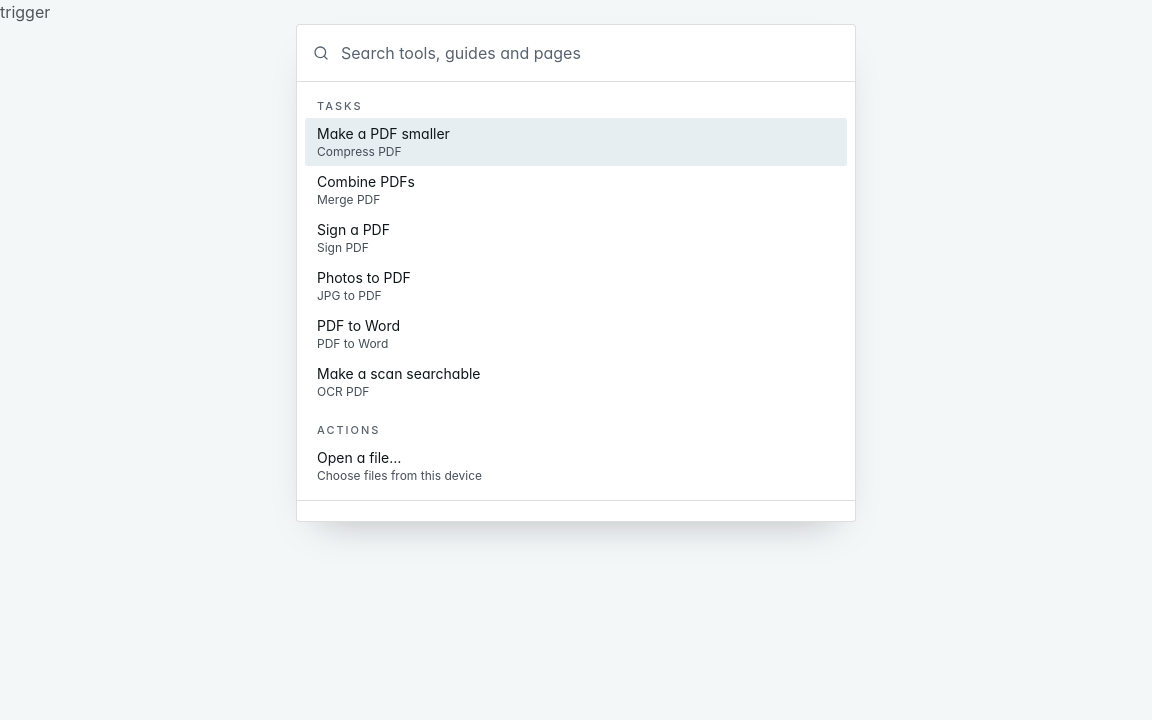
it: the combobox contract › finds guides once their meta arrives (its own chunk)
The width and height of the screenshot is (1152, 720).
Type "how to merge" into the dropdown named "Find a tool or guide".
click(590, 53); type("how to merge")  # box [341,25,839,81]
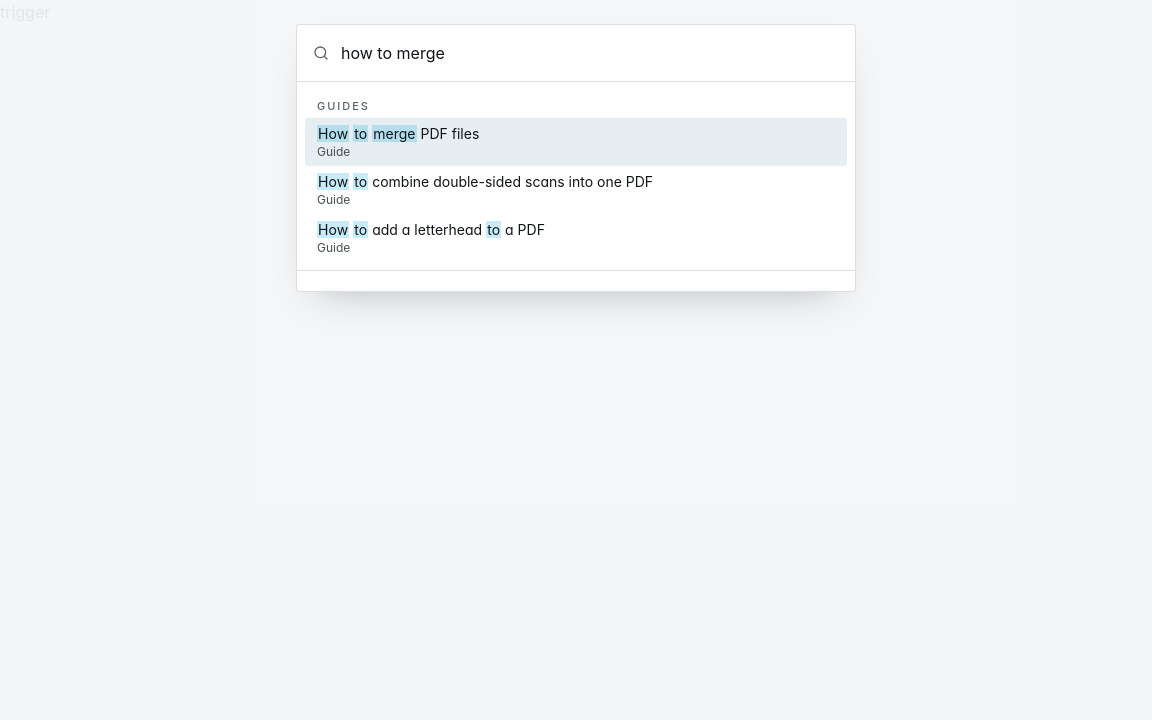
Result: the element "Guides" shows "merge" at [373,125,416,142]
